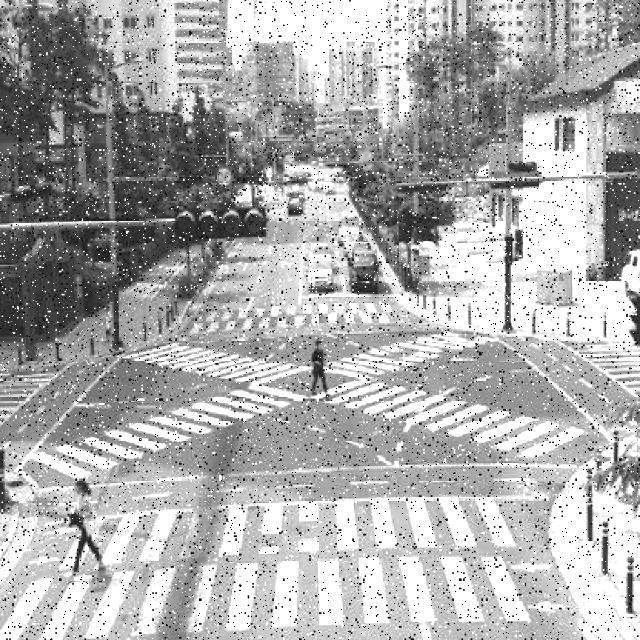Pedestrian crosswalk: (1, 482, 523, 639), (29, 345, 591, 483), (147, 294, 415, 342), (1, 350, 66, 453), (568, 332, 640, 407)
